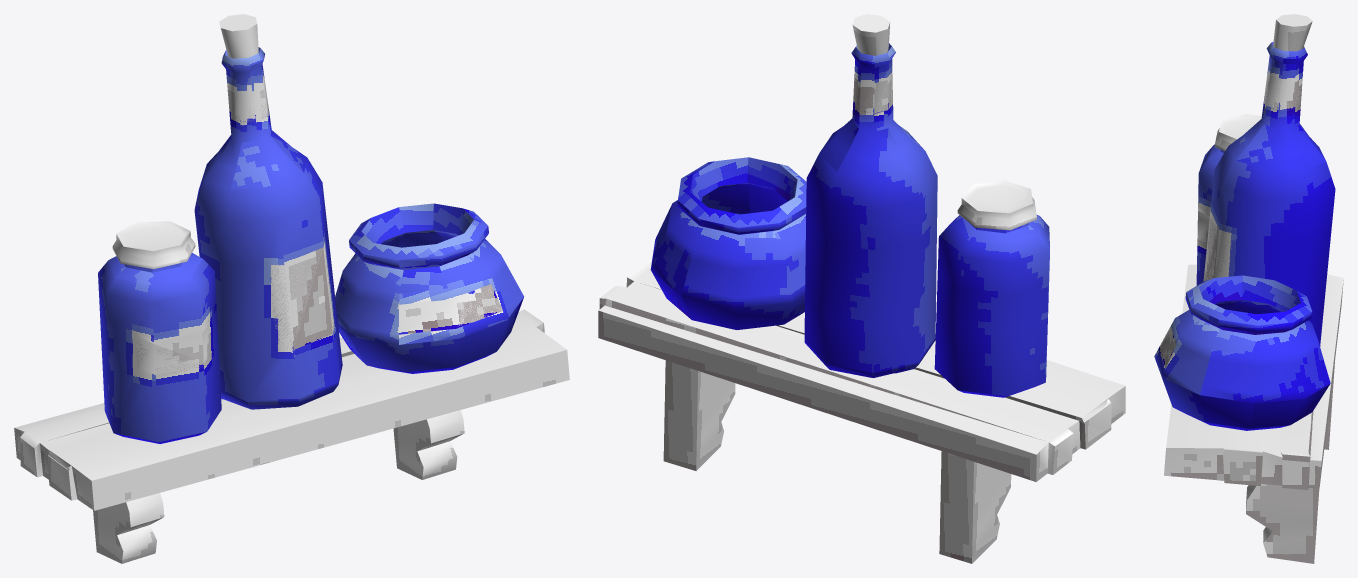
Rendered from wall_shelf_jars.glb.
3 views of the same model, side by side, from view 1: azimuth 30°, elevation 25°; view 2: azimuth 150°, elevation 25°; view 3: azimuth 270°, elevation 25° (orthographic). The views are drawn at different scales.
Parts seen in each view (by area): view 1: mesh; view 2: mesh; view 3: mesh.
Boxes of the visible parts, x1=… form: mesh: x1=14, y1=14, x2=569, y2=563; mesh: x1=598, y1=14, x2=1125, y2=563; mesh: x1=1154, y1=14, x2=1343, y2=563.
Bounding box in the file's own units: 0.5481 × 0.56 × 0.2035.
1 material, 1 textured.
